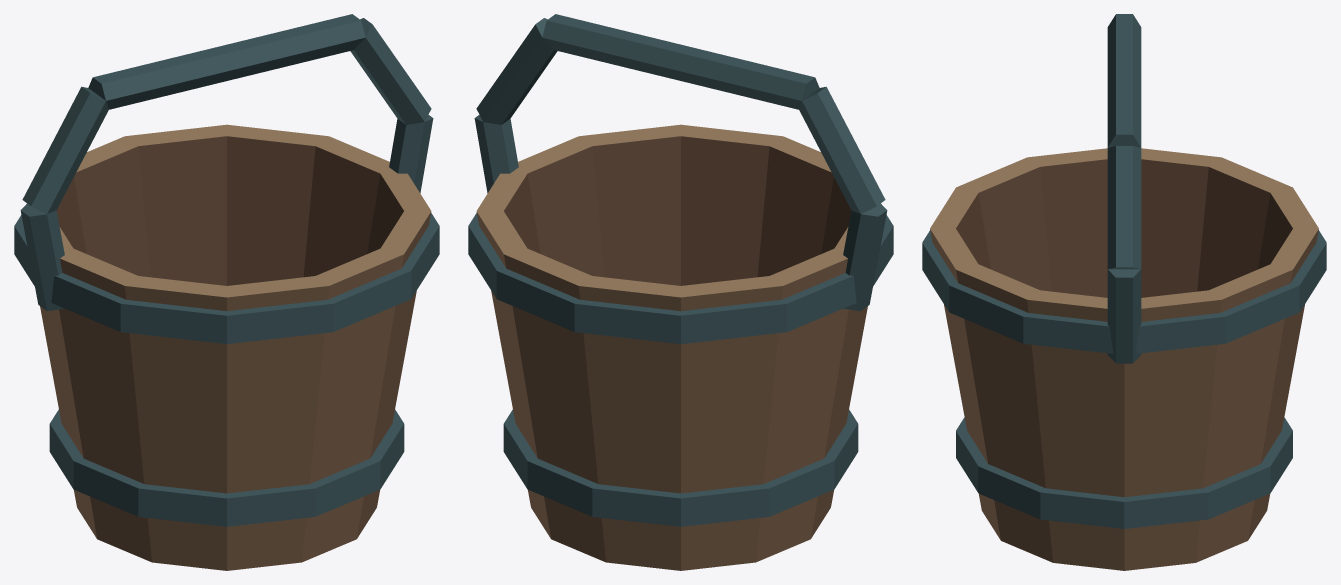
File: bucket.glb
The picture shows the model from 3 angles, left to right: view 1: azimuth 30°, elevation 25°; view 2: azimuth 150°, elevation 25°; view 3: azimuth 270°, elevation 25°; orthographic projection. The views are drawn at different scales.
Visible parts, largest first — view 1: bucket__body; view 2: bucket__body; view 3: bucket__body.
Boxes of the visible parts, x1,y1,x2,y2 form: bucket__body: (14, 14, 439, 570); bucket__body: (468, 14, 893, 570); bucket__body: (922, 14, 1326, 570).
Size of the model in its own units: 0.3421 by 0.3713 by 0.312.
